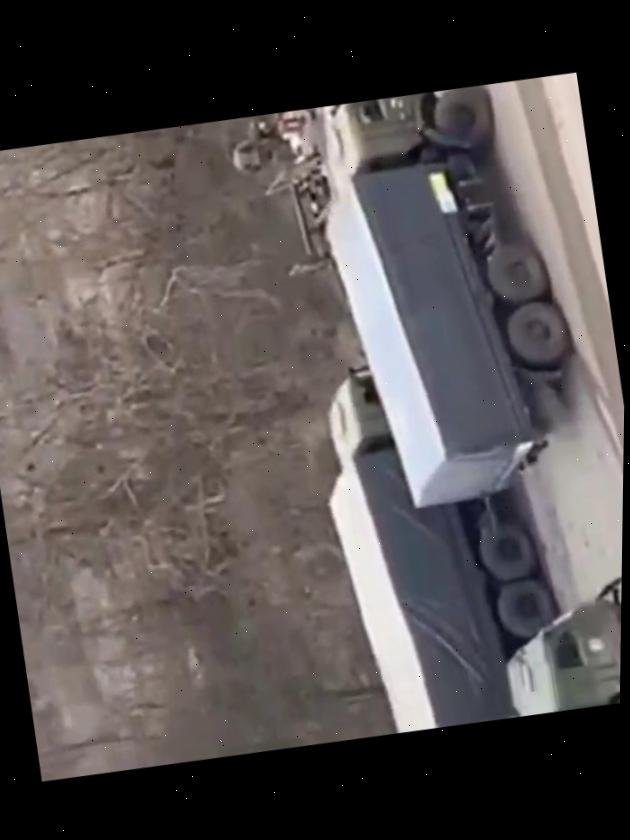truck: (297, 73, 598, 524), (302, 348, 571, 743), (490, 570, 622, 720)
